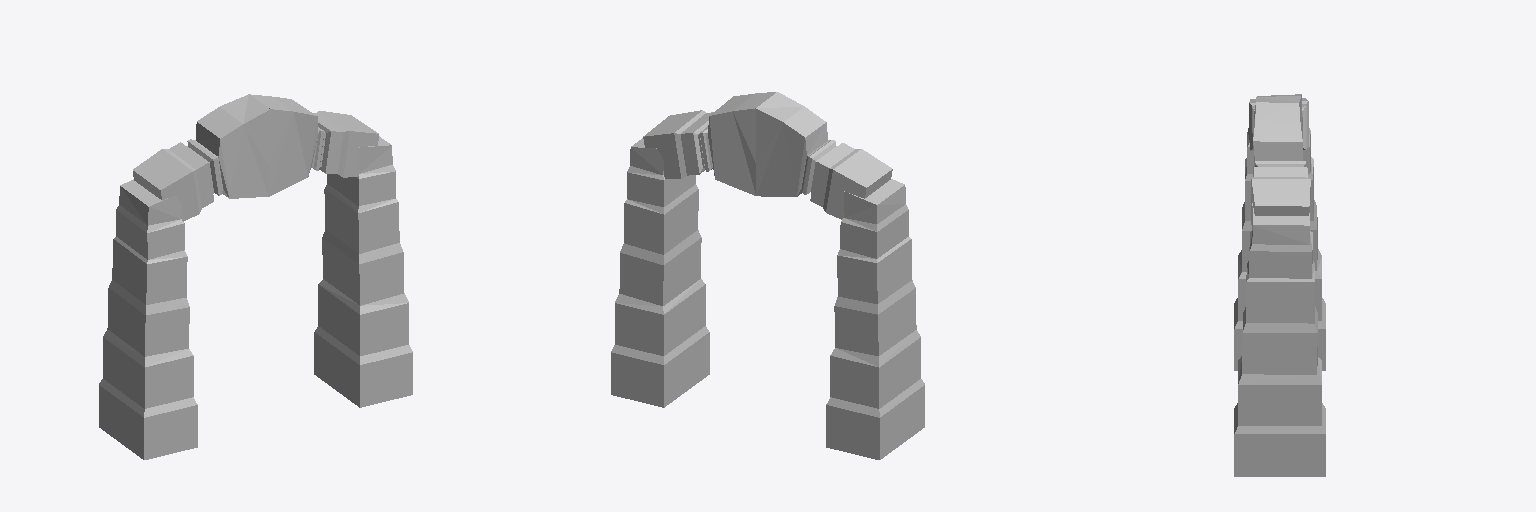
The model's file is portal.obj.
3 renders of one model, left to right at view 1: azimuth 30°, elevation 25°; view 2: azimuth 150°, elevation 25°; view 3: azimuth 270°, elevation 25°, orthographic.
Visible parts, largest first — view 1: Cube; view 2: Cube; view 3: Cube.
Part boxes in pixels (left/top/right/bottom): Cube: left=99, top=94, right=412, bottom=459; Cube: left=611, top=92, right=924, bottom=459; Cube: left=1234, top=94, right=1325, bottom=476.
Size of the model in its own units: 6.81 by 7.5 by 2.